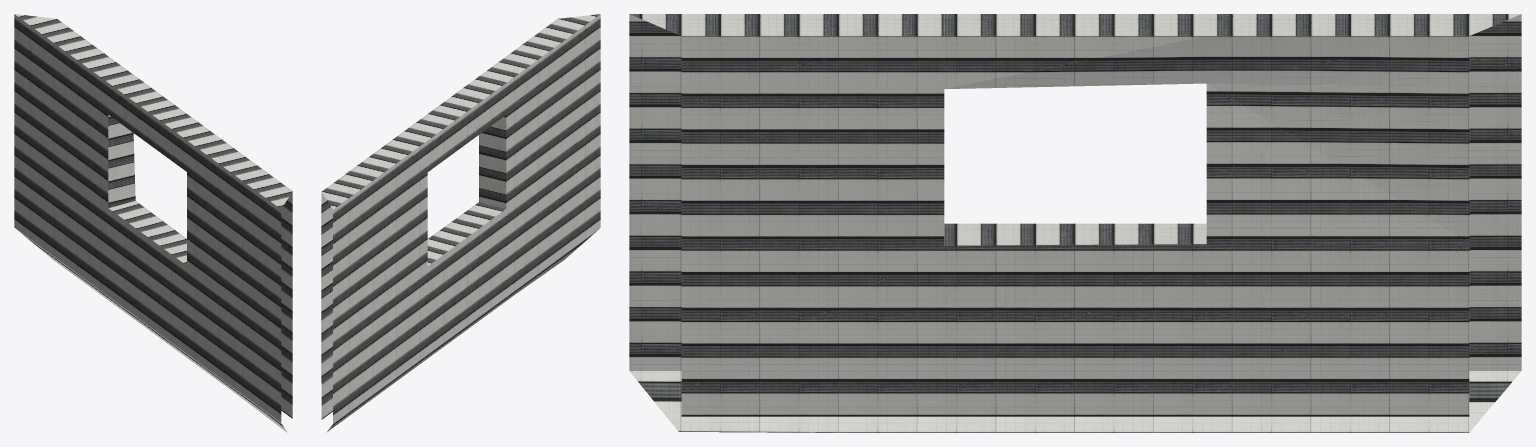
Rendered from Central_Wall_4.FBX.
3 renders of one model, left to right at view 1: azimuth 30°, elevation 25°; view 2: azimuth 150°, elevation 25°; view 3: azimuth 270°, elevation 25°, orthographic. The views are drawn at different scales.
Visible parts, largest first — view 1: Central_Wall_4; view 2: Central_Wall_4; view 3: Central_Wall_4.
Part boxes in pixels (x1,y1,x2,y2): Central_Wall_4: (14,14,292,432); Central_Wall_4: (321,14,600,431); Central_Wall_4: (629,14,1521,432).
Bounding box in the file's own units: 20.06 × 168 × 340.
